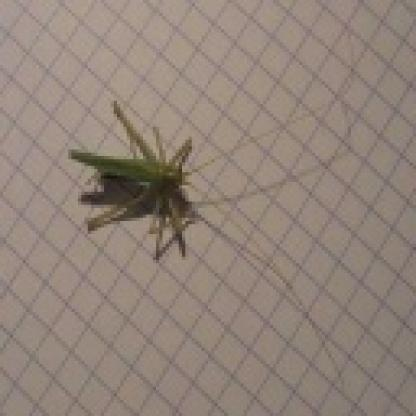grasshopper: (71, 103, 270, 269)
